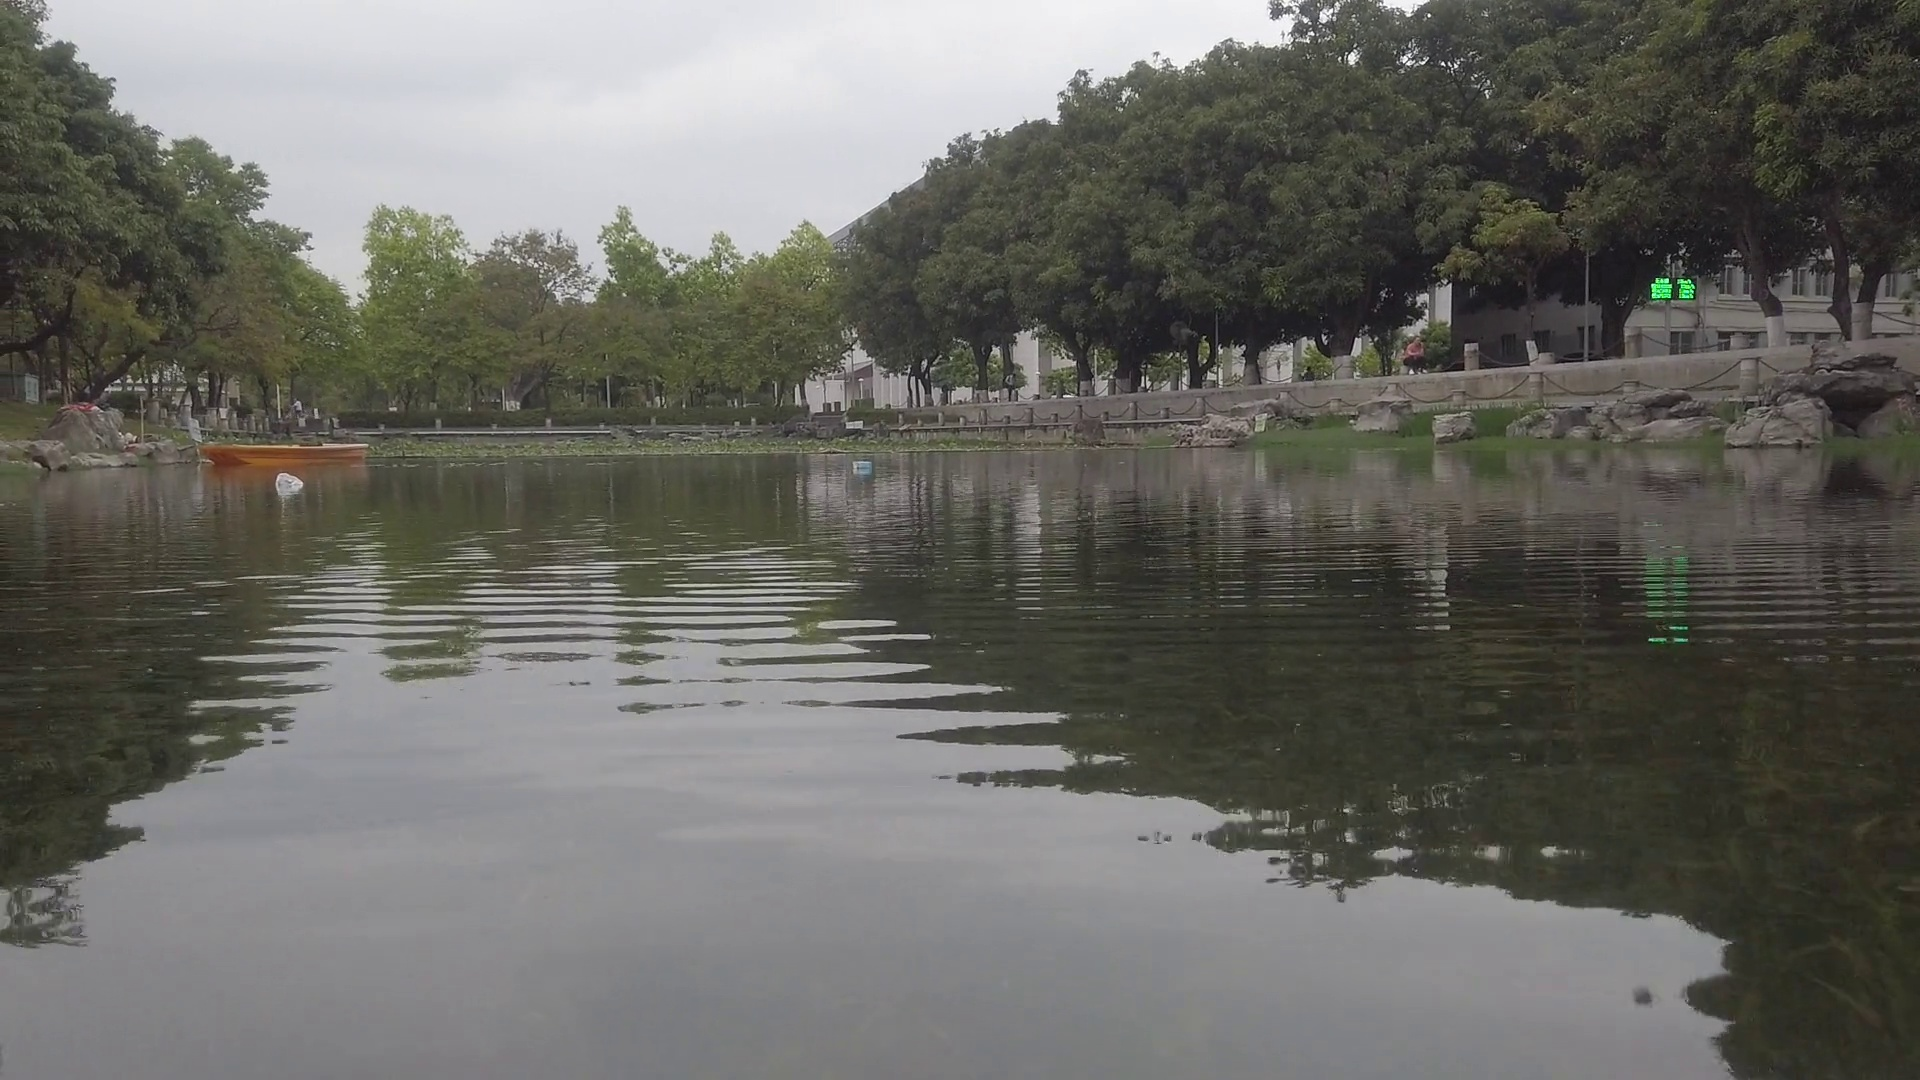carton: (853, 458, 876, 469)
plastic: (276, 472, 301, 493)
